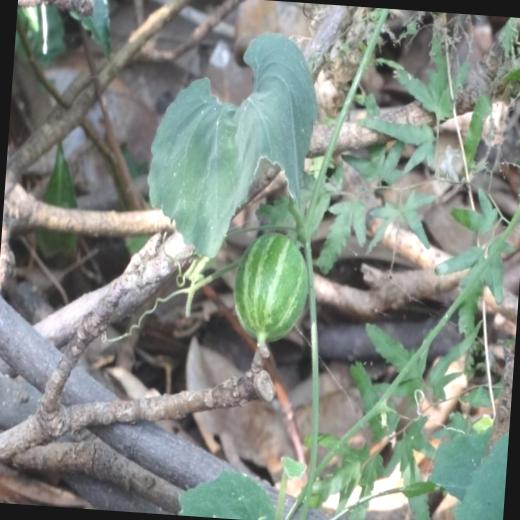Cherry: (231, 230, 313, 349)
